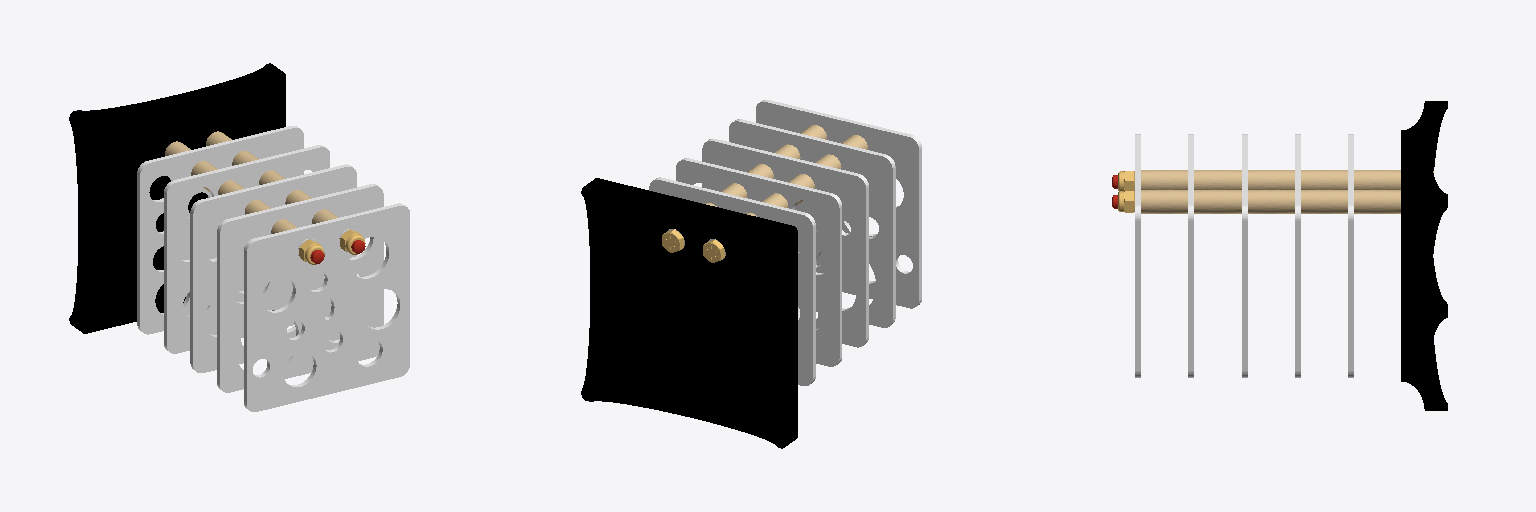
The model's file is EnglishProject_v16.obj.
3 renders of one model, left to right at view 1: azimuth 30°, elevation 25°; view 2: azimuth 150°, elevation 25°; view 3: azimuth 270°, elevation 25°, orthographic.
Visible parts, largest first — view 1: Body1, Body1:15, Body1:14, Body1:13, Body1:11, Body1:12; view 2: Body1, Body1:15, Body1:14, Body1:13, Body1:12, Body1:11; view 3: Body1, Body1:11, Body1:12, Body1:13, Body1:14, Body1:15, Body1:8, Body1:2, Body1:6, Body1:7, Body1:9, Body1:10 (+4 smaller).
Boxes of the visible parts, x1=… form: Body1: x1=69, y1=63, x2=285, y2=333; Body1:15: x1=244, y1=203, x2=409, y2=411; Body1:14: x1=217, y1=184, x2=383, y2=392; Body1:13: x1=190, y1=164, x2=356, y2=372; Body1:11: x1=137, y1=126, x2=303, y2=334; Body1:12: x1=164, y1=145, x2=329, y2=353; Body1: x1=581, y1=178, x2=797, y2=448; Body1:15: x1=756, y1=100, x2=921, y2=308; Body1:14: x1=729, y1=119, x2=895, y2=327; Body1:13: x1=702, y1=139, x2=868, y2=347; Body1:12: x1=676, y1=158, x2=841, y2=366; Body1:11: x1=649, y1=177, x2=815, y2=385; Body1: x1=1401, y1=101, x2=1447, y2=410; Body1:11: x1=1348, y1=134, x2=1353, y2=377; Body1:12: x1=1295, y1=134, x2=1300, y2=377; Body1:13: x1=1242, y1=134, x2=1247, y2=377; Body1:14: x1=1188, y1=134, x2=1193, y2=377; Body1:15: x1=1135, y1=134, x2=1140, y2=377; Body1:8: x1=1194, y1=190, x2=1241, y2=213; Body1:2: x1=1301, y1=190, x2=1347, y2=213; Body1:6: x1=1354, y1=190, x2=1400, y2=213; Body1:7: x1=1141, y1=190, x2=1187, y2=213; Body1:9: x1=1248, y1=190, x2=1294, y2=213; Body1:10: x1=1194, y1=170, x2=1241, y2=189.
Bounding box in the file's own units: 5 × 5 × 7.13.